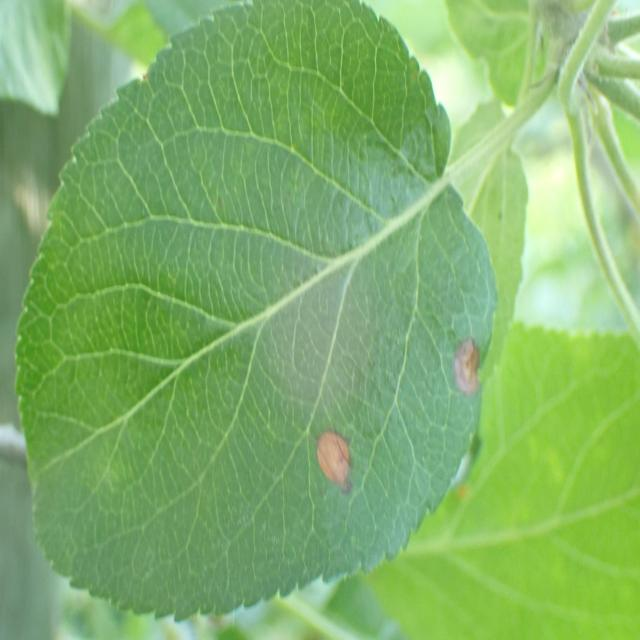Black Rot: (307, 424, 372, 513), (443, 327, 487, 402)
